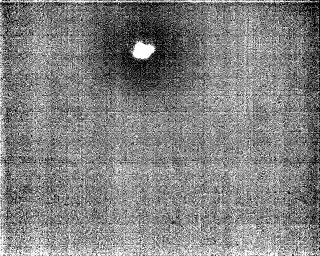AIRPLANE: (128, 36, 157, 63)
